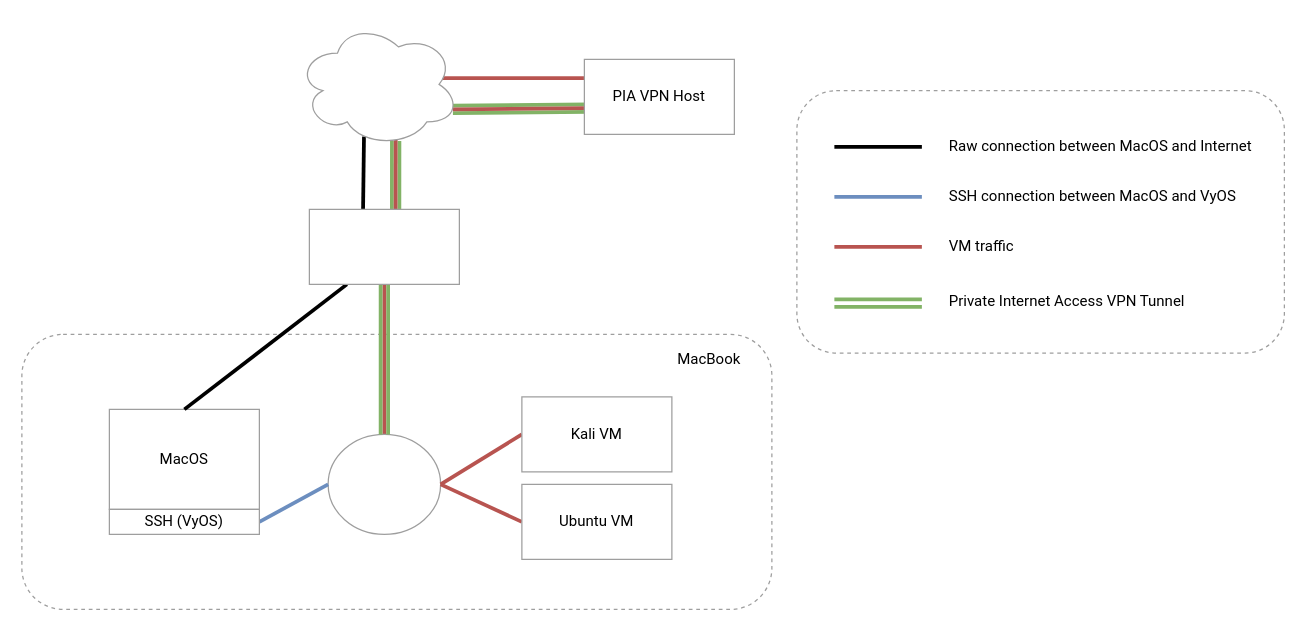
Image size: 1306x631. Some labels were removed from this diagram. The centre of each missing label's shape, as x and y in pixels:
Internet: pixel 377 84
LAN: pixel 383 246
Routing VM (VyOS): pixel 384 483
